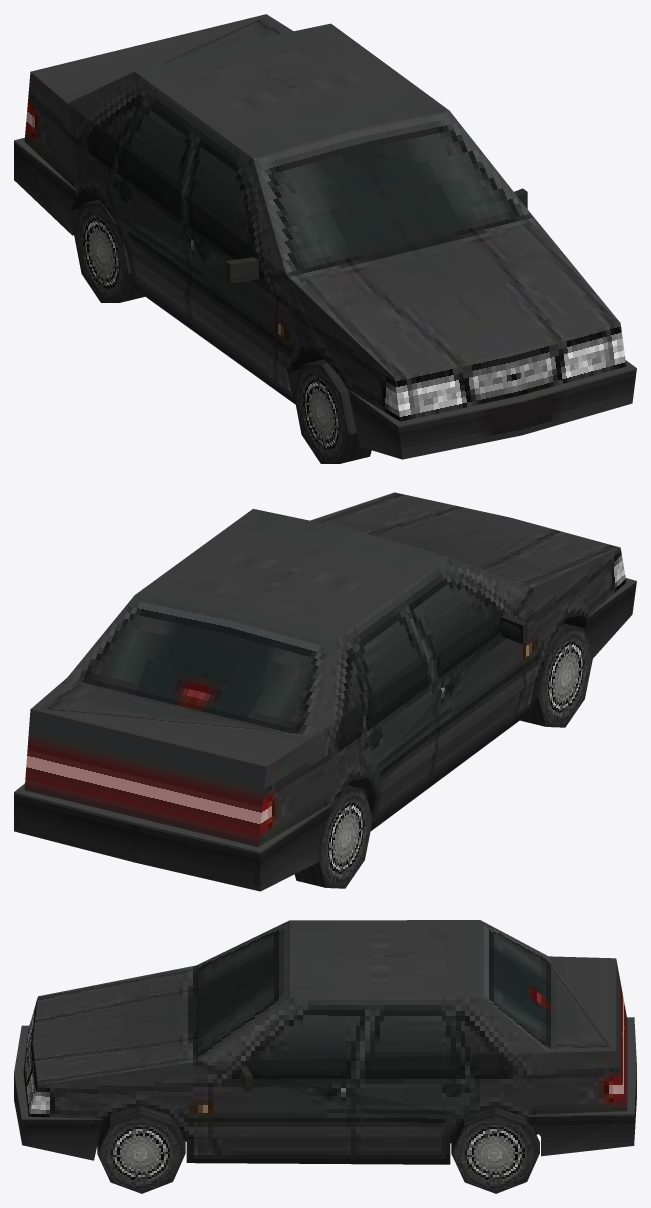
The model's file is car2-black.glb.
3 renders of one model, top to bottom at view 1: azimuth 30°, elevation 25°; view 2: azimuth 150°, elevation 25°; view 3: azimuth 270°, elevation 25°, orthographic. The views are drawn at different scales.
Parts seen in each view (by area): view 1: Car2; view 2: Car2; view 3: Car2.
Boxes of the visible parts, <box> form: Car2: <box>14,14,636,463</box>; Car2: <box>14,492,636,891</box>; Car2: <box>14,920,636,1193</box>.
Size of the model in its own units: 2.9 by 2.2 by 6.53.
Materials: 1 (1 with a texture image).
